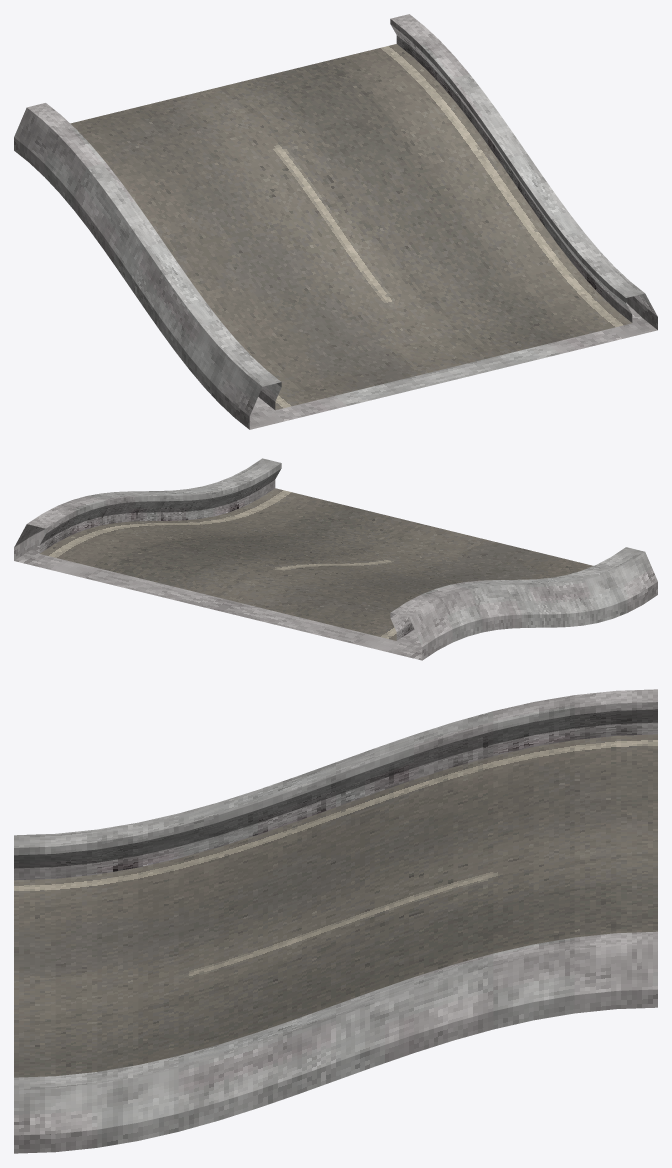
File: road-Straight-Flat-Flat-Up1-Center-Size1.glb
3 views of the same model, one above another, from view 1: azimuth 30°, elevation 25°; view 2: azimuth 150°, elevation 25°; view 3: azimuth 270°, elevation 25° (orthographic). The views are drawn at different scales.
Parts seen in each view (by area): view 1: road-Straight-Flat-Flat-Up1-Center-Size1; view 2: road-Straight-Flat-Flat-Up1-Center-Size1; view 3: road-Straight-Flat-Flat-Up1-Center-Size1.
Part boxes in pixels (<box>): road-Straight-Flat-Flat-Up1-Center-Size1: <box>14,14,657,429</box>; road-Straight-Flat-Flat-Up1-Center-Size1: <box>14,458,657,660</box>; road-Straight-Flat-Flat-Up1-Center-Size1: <box>14,689,657,1153</box>.
Bounding box in the file's own units: 1 × 0.3438 × 1.
Materials: 2 (2 with a texture image).
